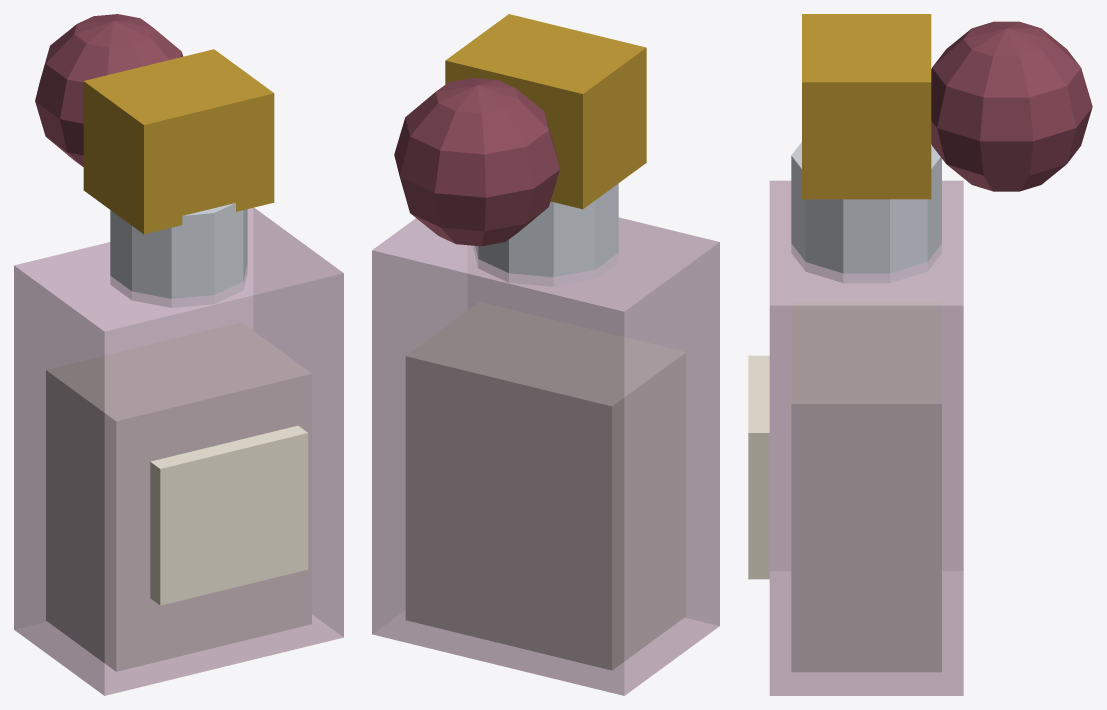
File: perfume.glb
3 views of the same model, side by side, from view 1: azimuth 30°, elevation 25°; view 2: azimuth 150°, elevation 25°; view 3: azimuth 270°, elevation 25° (orthographic). The views are drawn at different scales.
Visible parts, largest first — view 1: perfume; view 2: perfume; view 3: perfume.
Boxes of the visible parts, x1=… form: perfume: x1=14, y1=14, x2=343, y2=695; perfume: x1=372, y1=14, x2=719, y2=695; perfume: x1=748, y1=14, x2=1092, y2=695.
Size of the model in its own units: 0.055 by 0.124 by 0.064.
